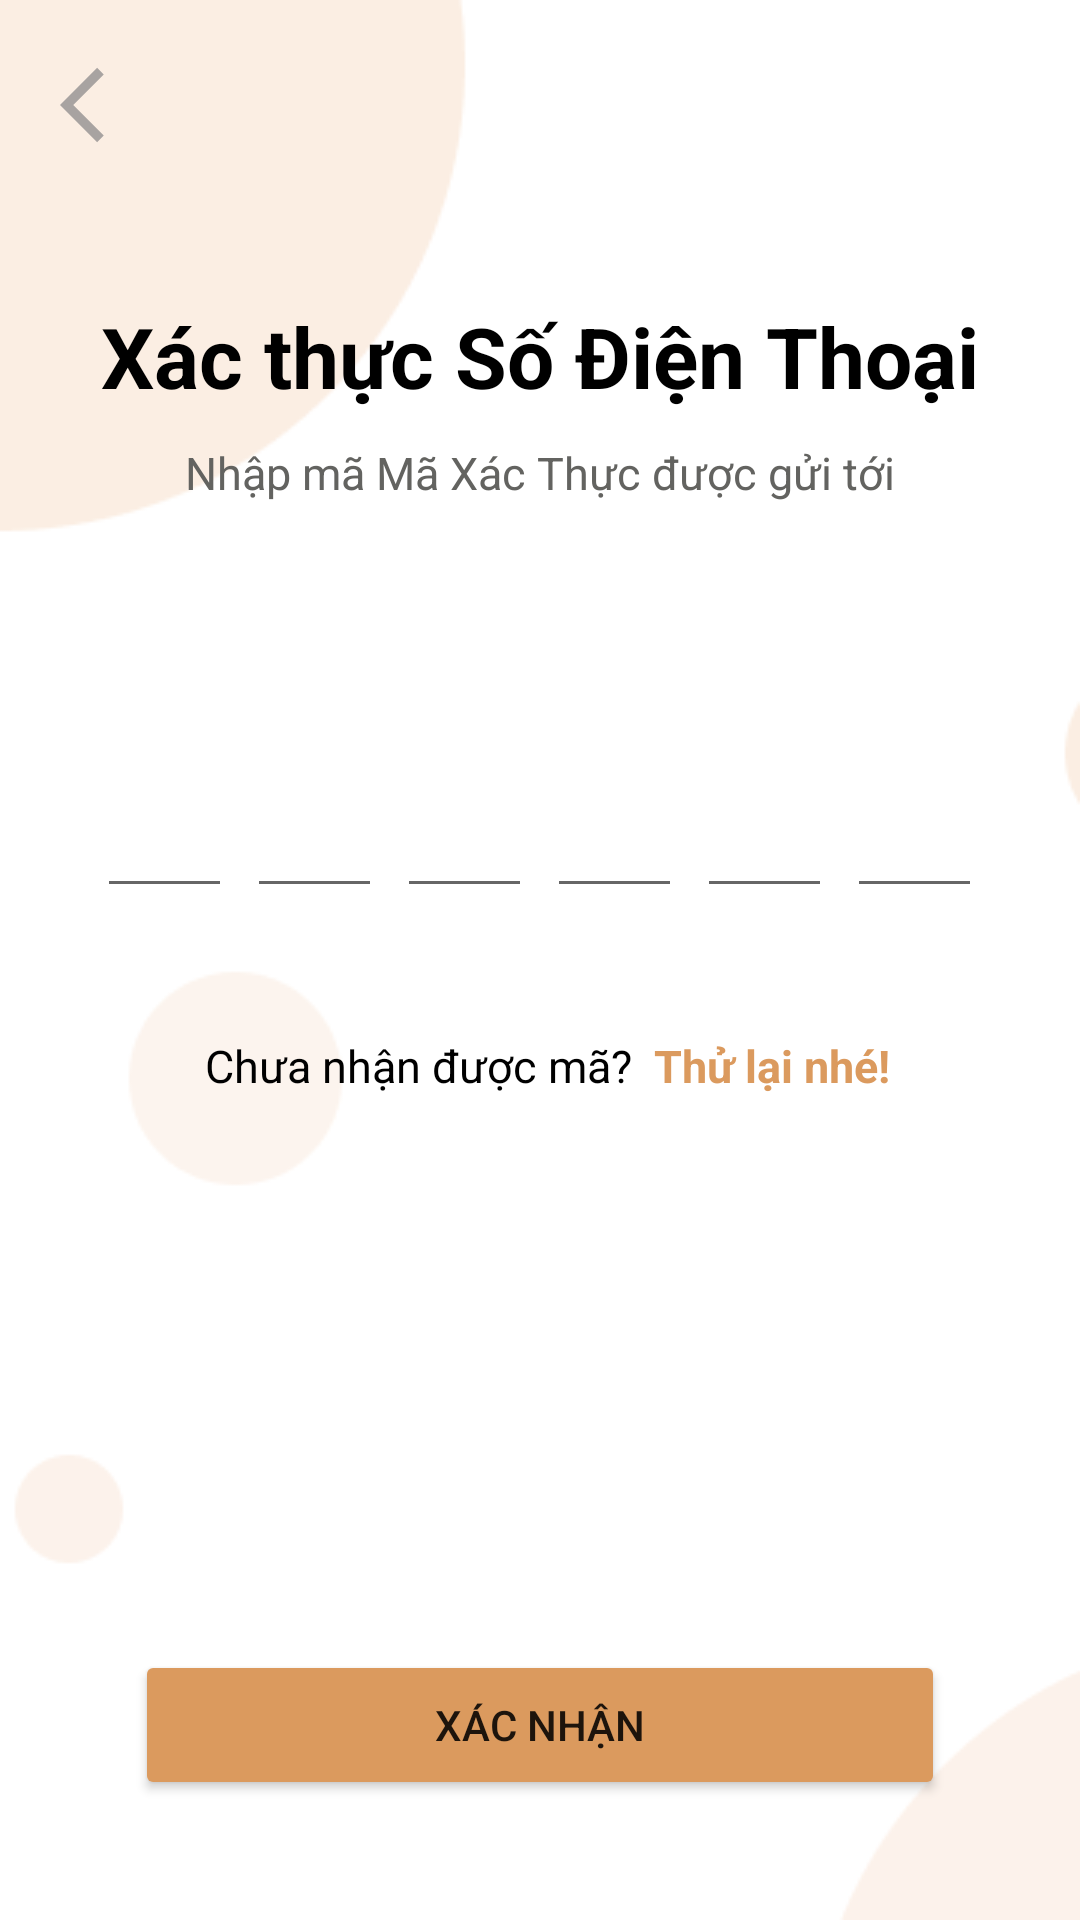

Where to tap for icons on this 1080px×1920px app screen, as [x,y]:
arrow back: [82,105]
